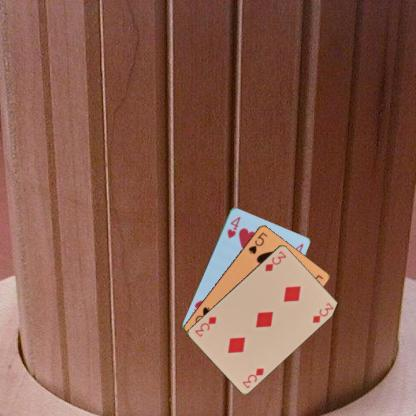3d: (240, 364, 265, 390), (262, 248, 288, 272)
4h: (224, 214, 242, 239)
5s: (246, 229, 268, 255)
